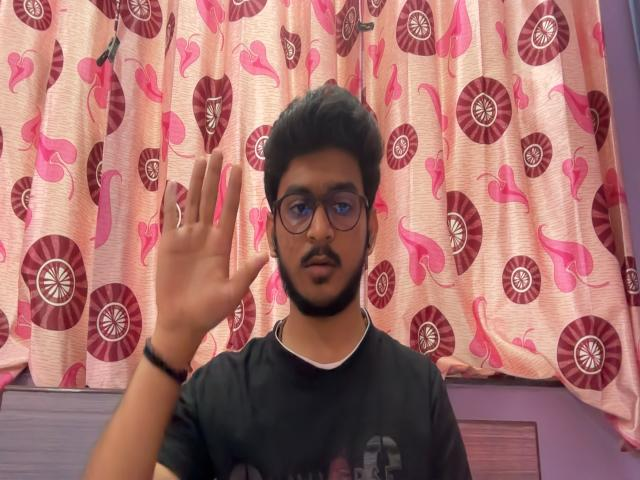Hello: (152, 148, 272, 342)
